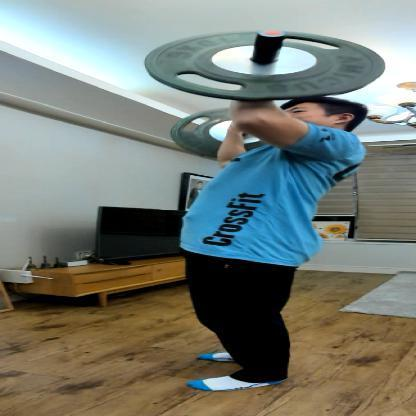barbell: (143, 26, 387, 163)
